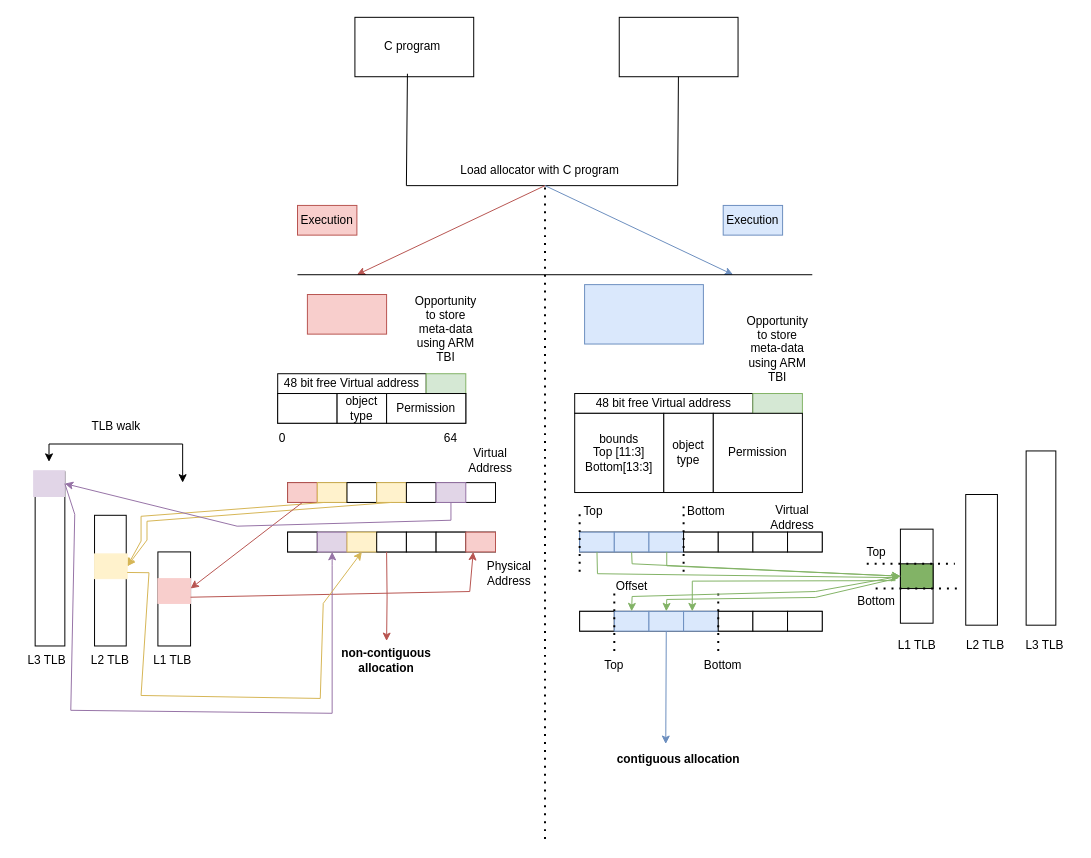
Image size: 1091x858. Some labels were removed from this diagram. The centre of each missing label's shape, as x and y in pixels:
"bounds" goes at pixel 307 408.
"Current proposed Malloc()" goes at pixel 643 314.
"Custom Allocator" goes at pixel 678 46.
"Standard Malloc()" goes at pixel 346 314.
